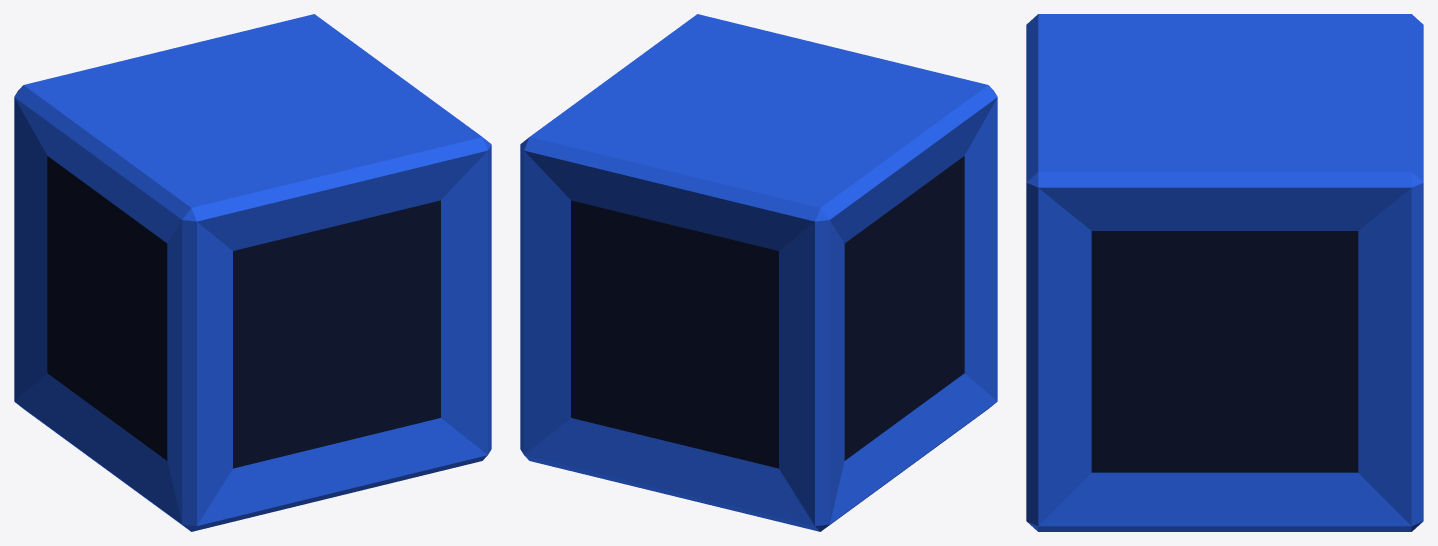
The model's file is base_block_before_offset_fix.glb.
The picture shows the model from 3 angles, left to right: view 1: azimuth 30°, elevation 25°; view 2: azimuth 150°, elevation 25°; view 3: azimuth 270°, elevation 25°; orthographic projection. The views are drawn at different scales.
Parts seen in each view (by area): view 1: Base_Blue, Base_Navy; view 2: Base_Blue, Base_Navy; view 3: Base_Blue, Base_Navy.
Part boxes in pixels (x1=…): Base_Blue: x1=14, y1=14, x2=491, y2=531; Base_Navy: x1=47, y1=156, x2=440, y2=468; Base_Blue: x1=520, y1=14, x2=997, y2=531; Base_Navy: x1=571, y1=156, x2=964, y2=468; Base_Blue: x1=1026, y1=14, x2=1423, y2=531; Base_Navy: x1=1091, y1=231, x2=1358, y2=472.
Bounding box in the file's own units: 1 × 1 × 1.
